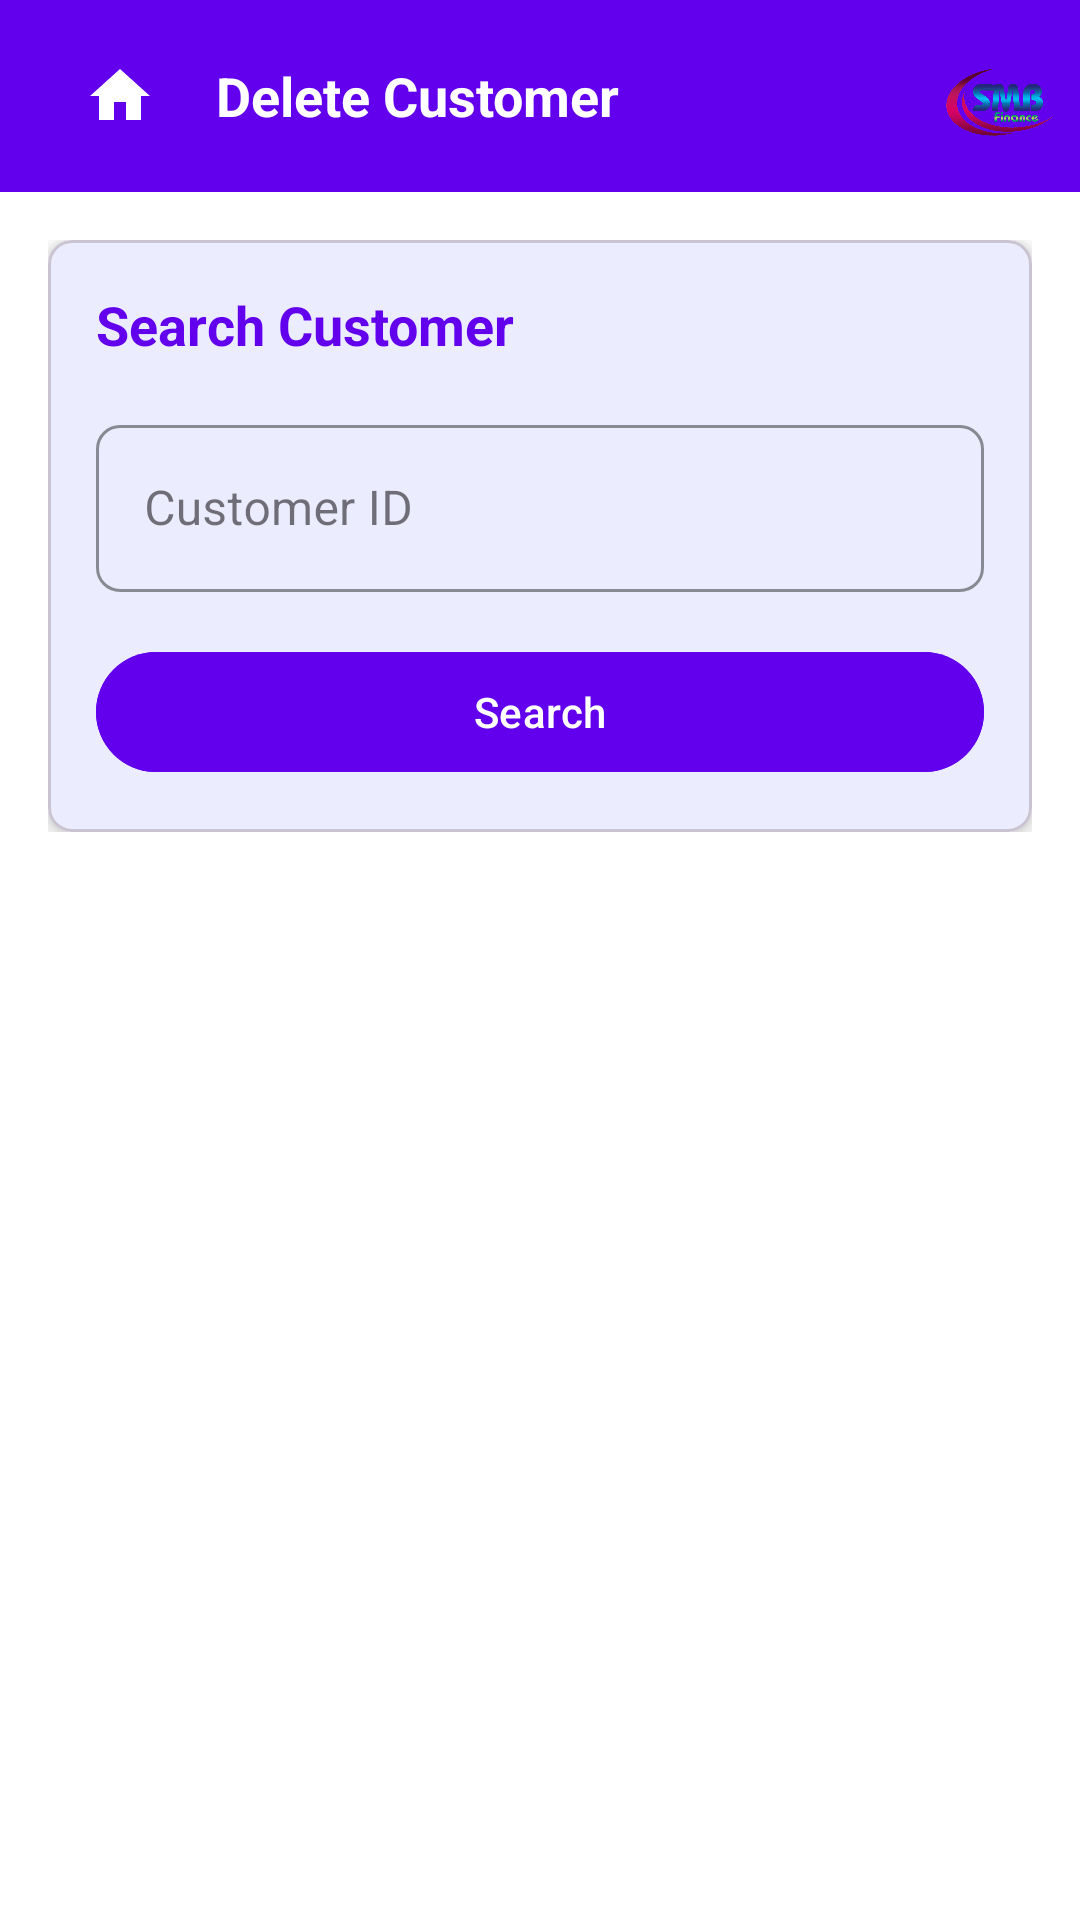

Screen size 1080px×1920px. Icon name, then its box in pixels as (x1, y1, x2, y2):
Home: (90, 69, 150, 120)
